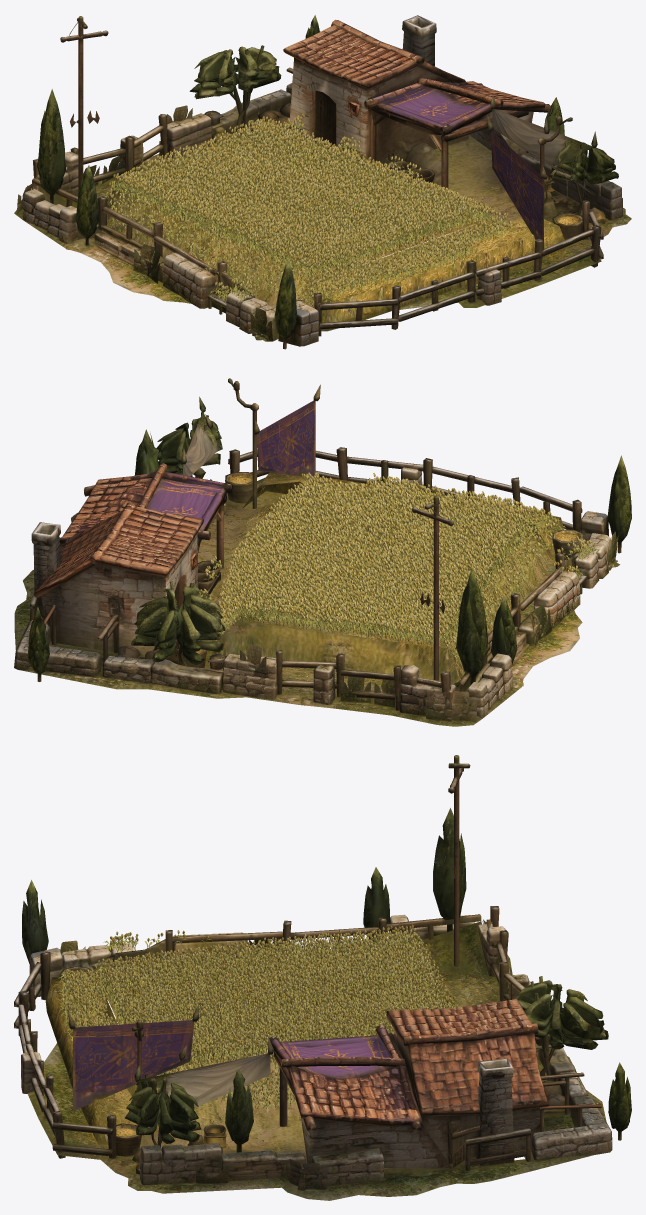
The model's file is Pasture.fbx.
The picture shows the model from 3 angles, top to bottom: view 1: azimuth 30°, elevation 25°; view 2: azimuth 150°, elevation 25°; view 3: azimuth 270°, elevation 25°; orthographic projection. The views are drawn at different scales.
Visible parts, largest first — view 1: farmhouse, Golden straw cover — editable separate layer; view 2: farmhouse, Golden straw cover — editable separate layer; view 3: farmhouse, Golden straw cover — editable separate layer.
Part boxes in pixels (x1=…): farmhouse: x1=14, y1=15, x2=631, y2=349; Golden straw cover — editable separate layer: x1=105, y1=113, x2=515, y2=306; farmhouse: x1=14, y1=378, x2=631, y2=726; Golden straw cover — editable separate layer: x1=199, y1=472, x2=600, y2=663; farmhouse: x1=14, y1=755, x2=631, y2=1200; Golden straw cover — editable separate layer: x1=57, y1=924, x2=457, y2=1108.
Bounding box in the file's own units: 98.39 × 39.5 × 99.95.
